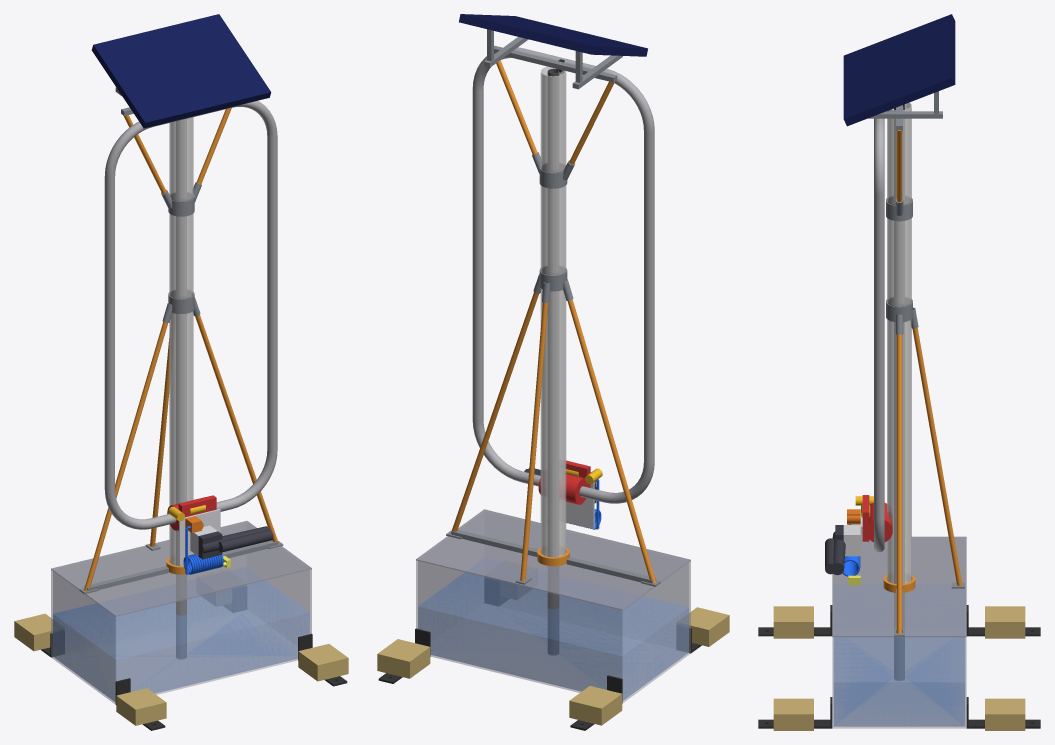
File: unit-v3.glb
The picture shows the model from 3 angles, left to right: view 1: azimuth 30°, elevation 25°; view 2: azimuth 150°, elevation 25°; view 3: azimuth 270°, elevation 25°; orthographic projection. The views are drawn at different scales.
Parts seen in each view (by area): view 1: tank, tank_water, solar_panel_30W, track_loop, growing_pipe, lid, spine_tube, sandbags, lower_aframe_and_back_strut_16mm, cart_arm_folded, clamp_collars_50mm, base_bar_and_lid_plates (+5 smaller); view 2: tank, tank_water, growing_pipe, lid, track_loop, spine_tube, lower_aframe_and_back_strut_16mm, sandbags, solar_panel_30W, base_bar_and_lid_plates, clamp_collars_50mm, panel_rails_and_posts (+5 smaller); view 3: tank, tank_water, lid, growing_pipe, solar_panel_30W, sandbags, track_loop, lower_aframe_and_back_strut_16mm, spine_tube, fold_out_feet, clamp_collars_50mm, cart_arm_folded (+4 smaller).
Part boxes in pixels (left/top/right/bottom): tank: left=51, top=522, right=311, bottom=704; tank_water: left=53, top=581, right=309, bottom=701; solar_panel_30W: left=91, top=14, right=271, bottom=128; track_loop: left=104, top=101, right=277, bottom=529; growing_pipe: left=169, top=117, right=193, bottom=566; lid: left=51, top=521, right=311, bottom=616; spine_tube: left=176, top=119, right=186, bottom=658; sandbags: left=14, top=600, right=348, bottom=725; lower_aframe_and_back_strut_16mm: left=84, top=315, right=278, bottom=590; cart_arm_folded: left=198, top=526, right=273, bottom=559; clamp_collars_50mm: left=161, top=182, right=201, bottom=322; base_bar_and_lid_plates: left=79, top=540, right=283, bottom=594; tank: left=416, top=511, right=690, bottom=702; tank_water: left=418, top=573, right=688, bottom=700; growing_pipe: left=540, top=66, right=566, bottom=557; lid: left=416, top=509, right=690, bottom=610; track_loop: left=472, top=47, right=654, bottom=503; spine_tube: left=547, top=68, right=559, bottom=654; lower_aframe_and_back_strut_16mm: left=451, top=292, right=656, bottom=583; sandbags: left=377, top=607, right=729, bottom=725; solar_panel_30W: left=459, top=14, right=647, bottom=56; base_bar_and_lid_plates: left=446, top=530, right=660, bottom=586; clamp_collars_50mm: left=532, top=152, right=575, bottom=302; panel_rails_and_posts: left=484, top=29, right=622, bottom=89; tank: left=832, top=637, right=966, bottom=728; tank_water: left=834, top=637, right=964, bottom=726; lid: left=832, top=536, right=966, bottom=637; growing_pipe: left=887, top=102, right=911, bottom=583; solar_panel_30W: left=843, top=14, right=955, bottom=126; sandbags: left=773, top=606, right=1025, bottom=730; track_loop: left=874, top=118, right=884, bottom=552; lower_aframe_and_back_strut_16mm: left=896, top=328, right=962, bottom=633; spine_tube: left=894, top=104, right=904, bottom=680; fold_out_feet: left=758, top=605, right=1040, bottom=728; clamp_collars_50mm: left=886, top=198, right=918, bottom=334; cart_arm_folded: left=825, top=525, right=845, bottom=575.
Size of the model in its own units: 760 by 2080 by 840.
